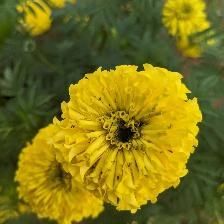marigold: (55, 64, 205, 215)
